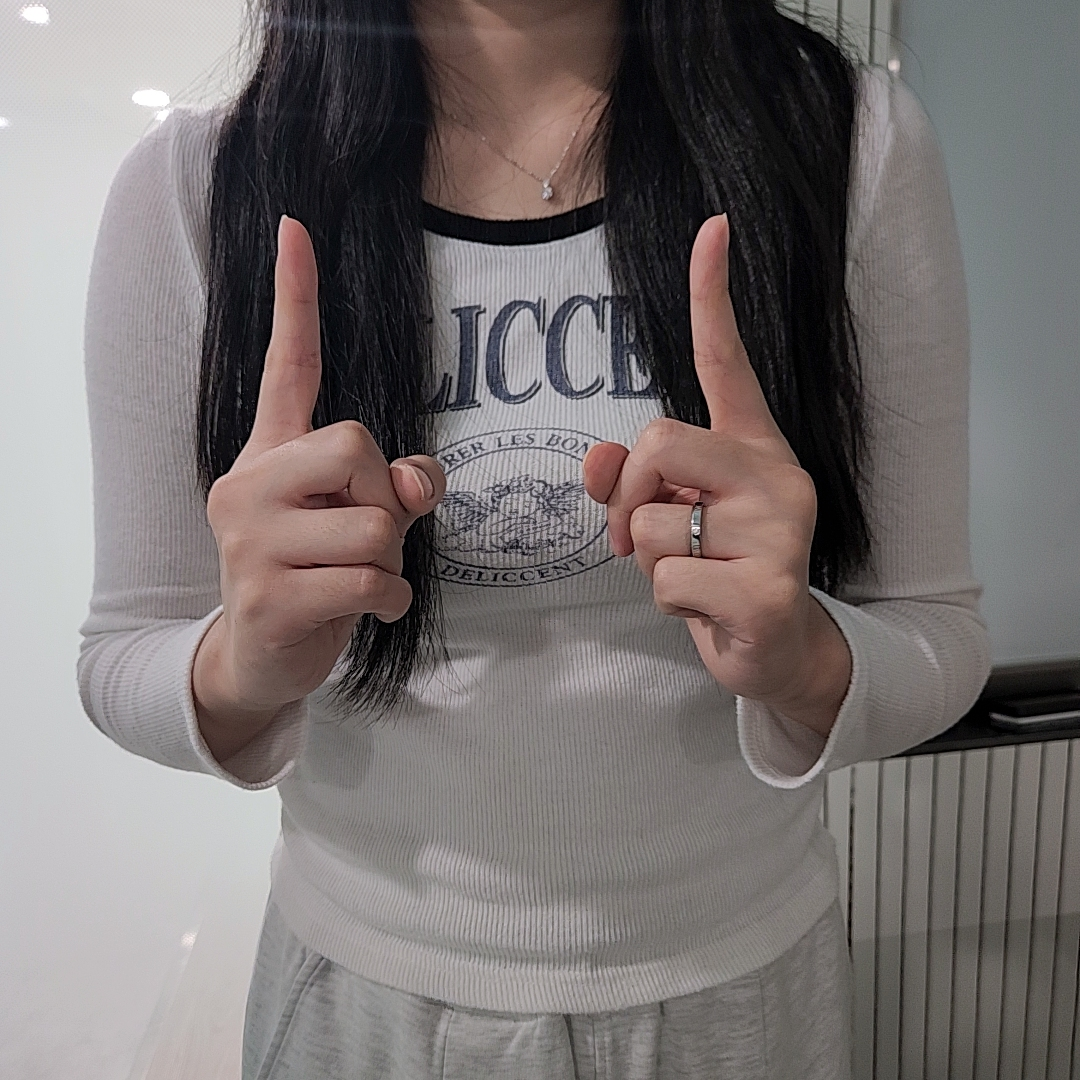meet: (204, 215, 819, 708)
